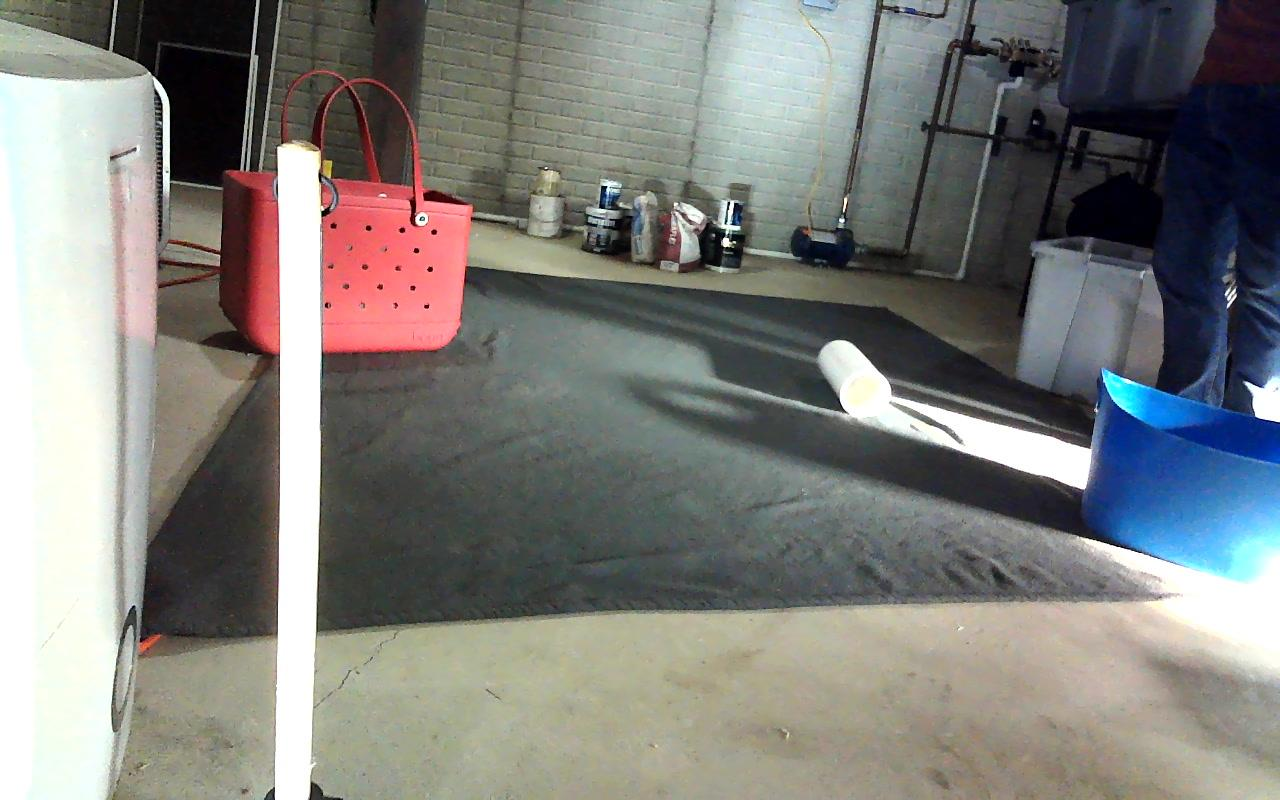coral: (819, 340, 891, 413)
